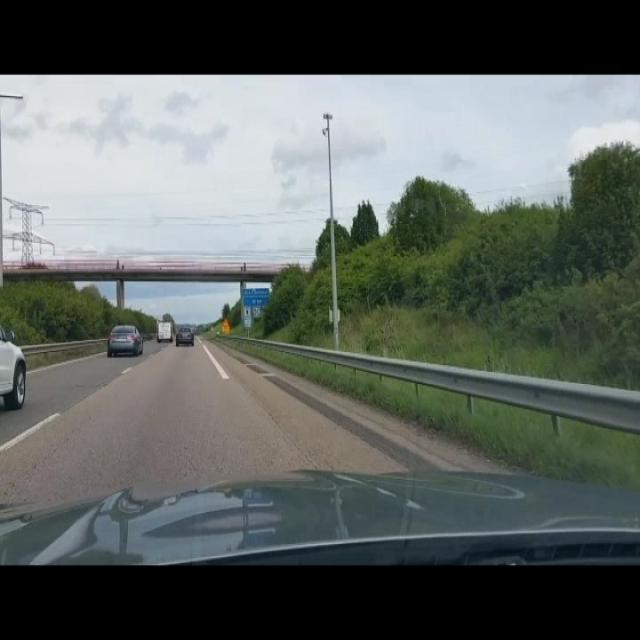indication: (242, 288, 270, 306)
